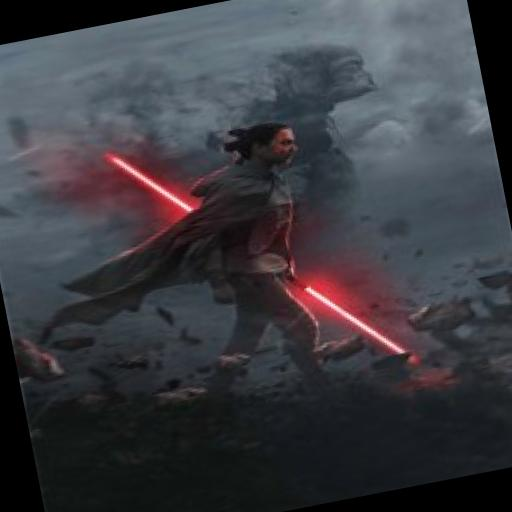human: (140, 112, 363, 418)
lightsaber: (110, 106, 415, 408)
